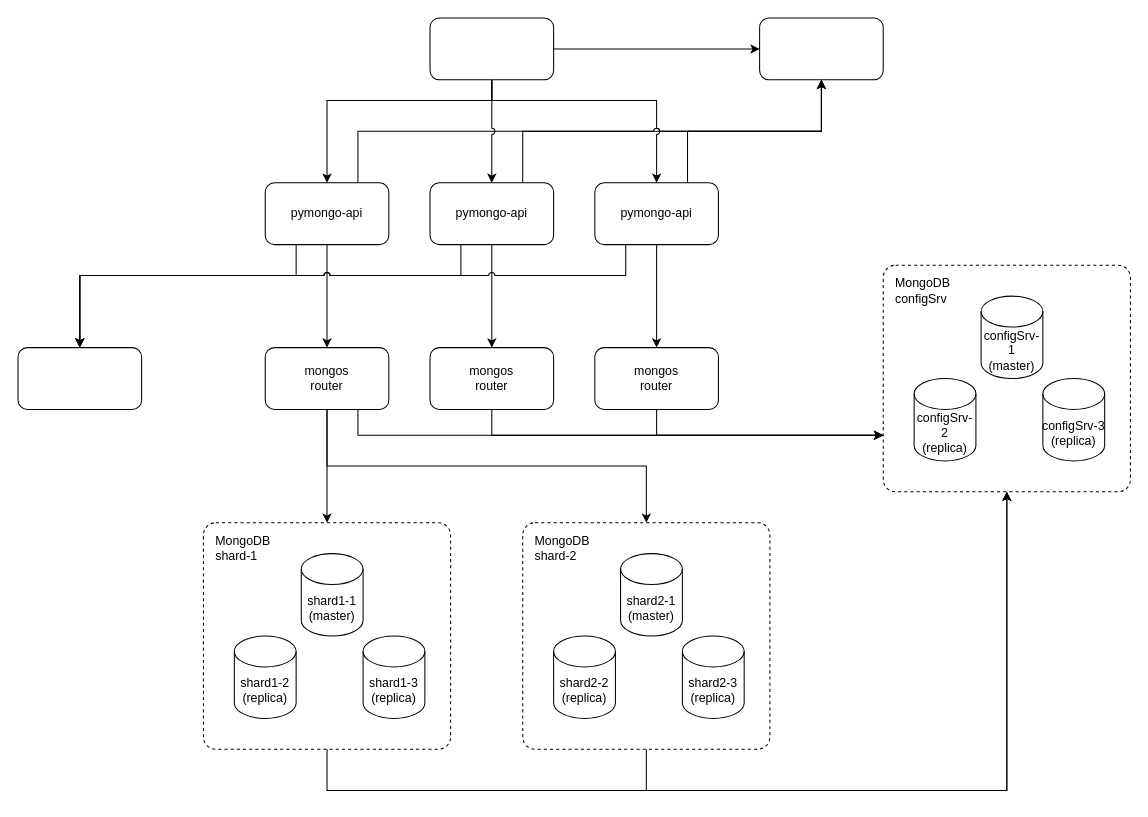
Image size: 1148x817. Some labels were removed from this diagram. The shapes that lost their labels are listed below. From the top down, each one's box as (x1, y1, x2, y2) in pixels, then its label:
(429, 17, 554, 80): API Gateway
(759, 17, 883, 80): Consul
(17, 347, 142, 409): redis
